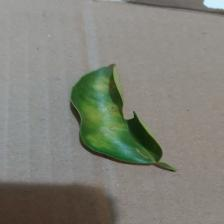greening: (65, 61, 180, 176)
